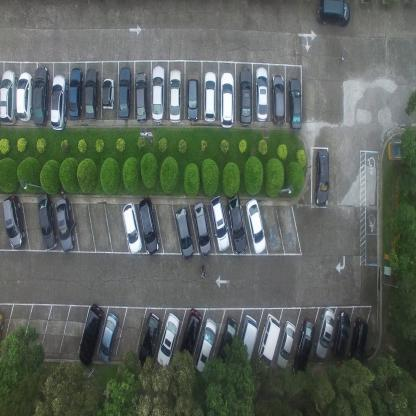car: (78, 302, 104, 366), (178, 307, 202, 368), (234, 314, 256, 378), (256, 314, 280, 372), (291, 317, 315, 375), (226, 191, 247, 254), (36, 192, 58, 252), (157, 311, 180, 367), (138, 196, 160, 254), (245, 197, 267, 255), (2, 195, 26, 248), (314, 306, 336, 361), (209, 195, 230, 252), (194, 316, 216, 370), (138, 312, 160, 366), (192, 200, 212, 258), (122, 201, 143, 254), (216, 316, 238, 366), (174, 205, 194, 260), (32, 66, 50, 127), (98, 312, 119, 364), (55, 196, 74, 252), (276, 318, 296, 370), (330, 308, 350, 360), (50, 74, 67, 132), (0, 68, 17, 126), (314, 146, 330, 206), (348, 317, 368, 364), (150, 64, 166, 122), (316, 0, 350, 27), (67, 67, 84, 119), (219, 71, 234, 129), (16, 71, 33, 122), (270, 73, 286, 126), (287, 76, 302, 132), (254, 66, 269, 122), (84, 66, 99, 121), (168, 67, 182, 124), (203, 72, 218, 124), (239, 66, 252, 126), (118, 65, 132, 120), (134, 70, 148, 123), (187, 78, 200, 122), (101, 76, 115, 110)
